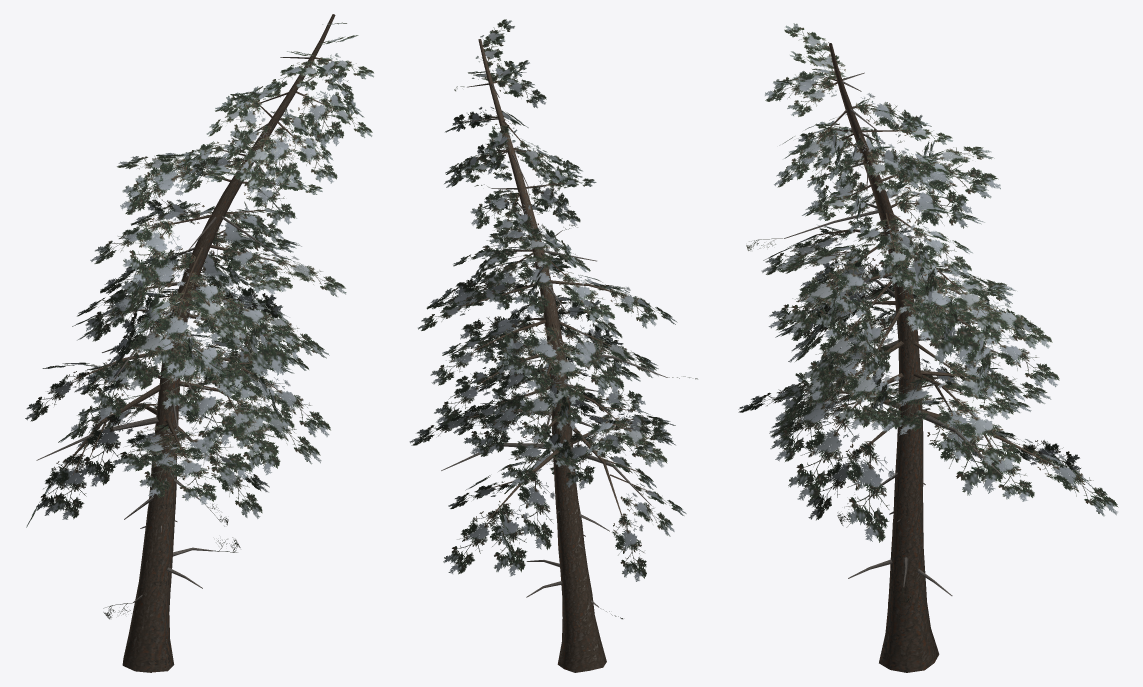
Rendered from tree_v6_pine_mangy_lean_winter.glb.
The picture shows the model from 3 angles, left to right: view 1: azimuth 30°, elevation 25°; view 2: azimuth 150°, elevation 25°; view 3: azimuth 270°, elevation 25°; orthographic projection. The views are drawn at different scales.
Parts seen in each view (by area): view 1: tree_v6_pine_mangy_lean_winter_LOD0; view 2: tree_v6_pine_mangy_lean_winter_LOD0; view 3: tree_v6_pine_mangy_lean_winter_LOD0.
Boxes of the visible parts, <box> form: tree_v6_pine_mangy_lean_winter_LOD0: <box>25,14,373,672</box>; tree_v6_pine_mangy_lean_winter_LOD0: <box>409,19,697,672</box>; tree_v6_pine_mangy_lean_winter_LOD0: <box>738,23,1118,672</box>.
Size of what is drawn, in the model's own units: 5.68 by 11.34 by 5.81.
1 material, 1 textured.
